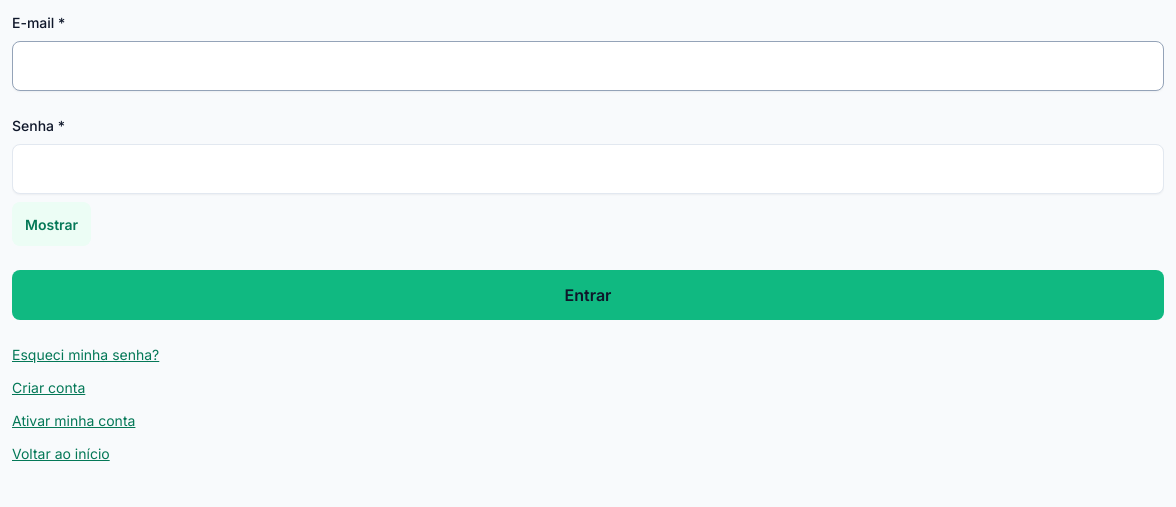
login form › rejects an invalid email
Step 1. Type "invalid" into the field labelled "E-mail *" → (588, 66), box x1=12 y1=41 x2=1164 y2=91
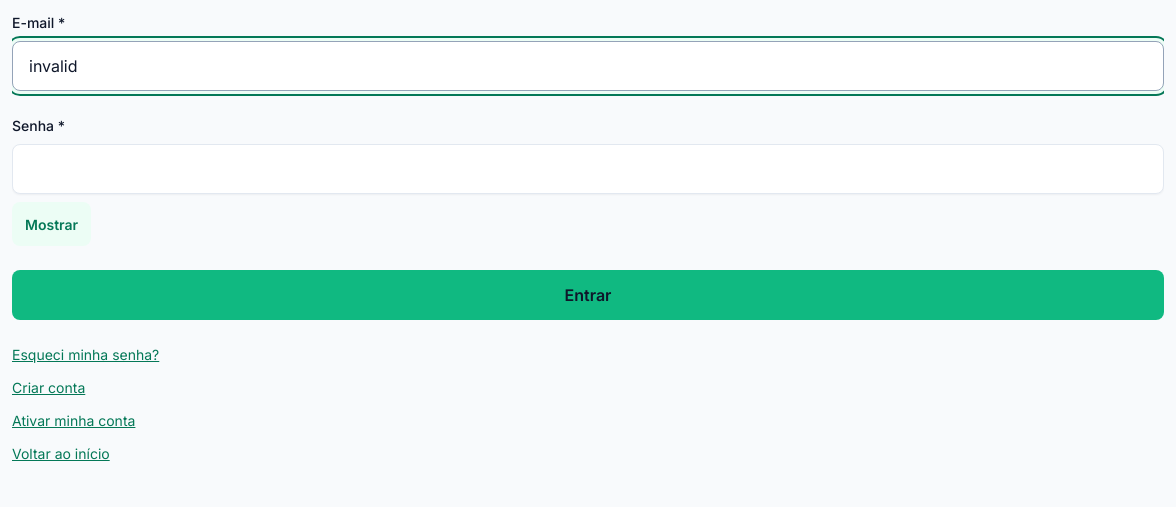
Step 2. Type "x" into the password field labelled "Senha *" → (588, 169), box x1=12 y1=144 x2=1164 y2=194
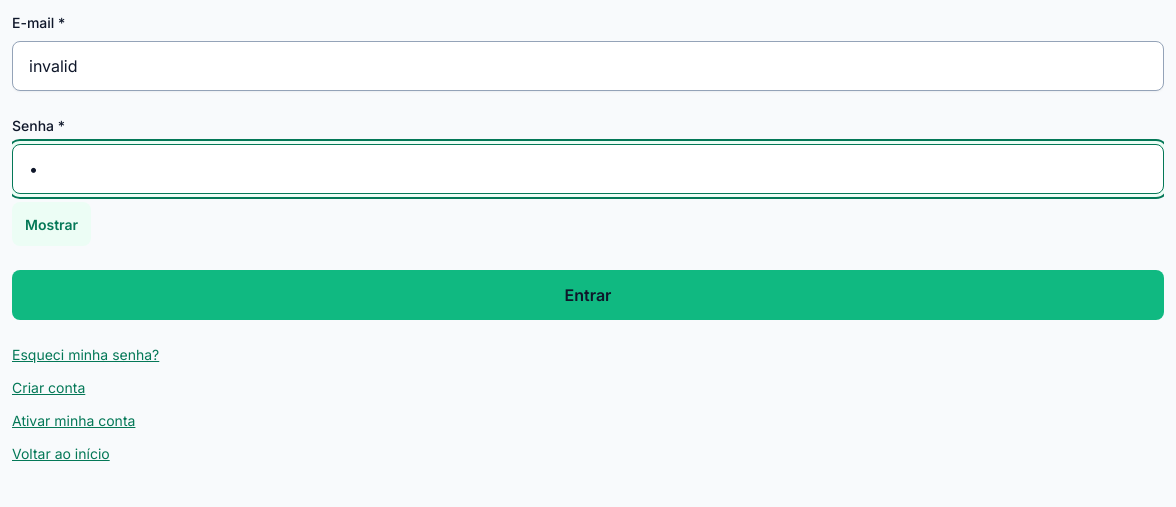
Step 3. Click the button "Entrar" → (588, 295), box x1=12 y1=270 x2=1164 y2=320
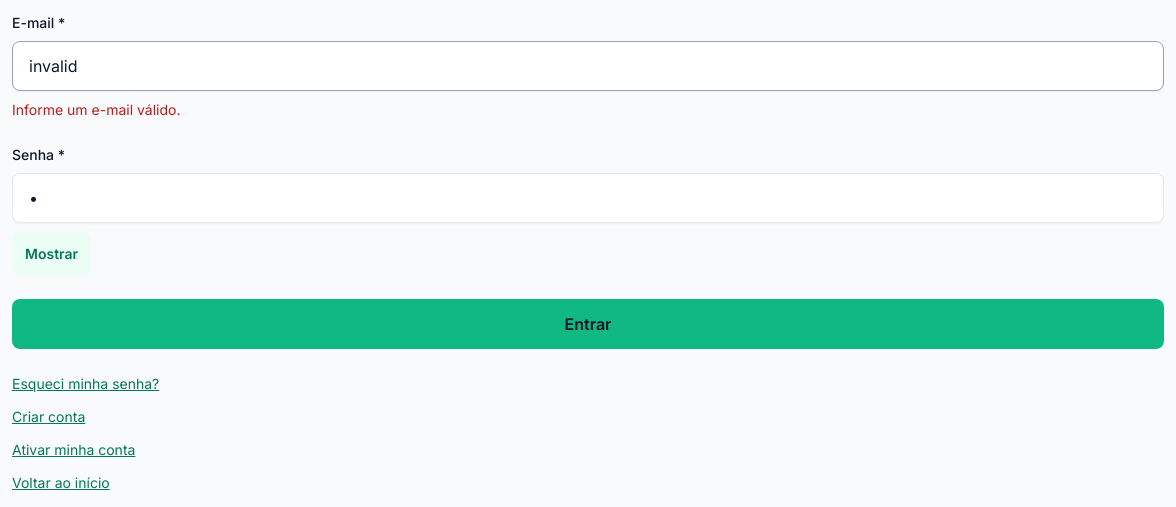
Now the text "Informe um e-mail válido." is shown, box x1=12 y1=101 x2=180 y2=118
